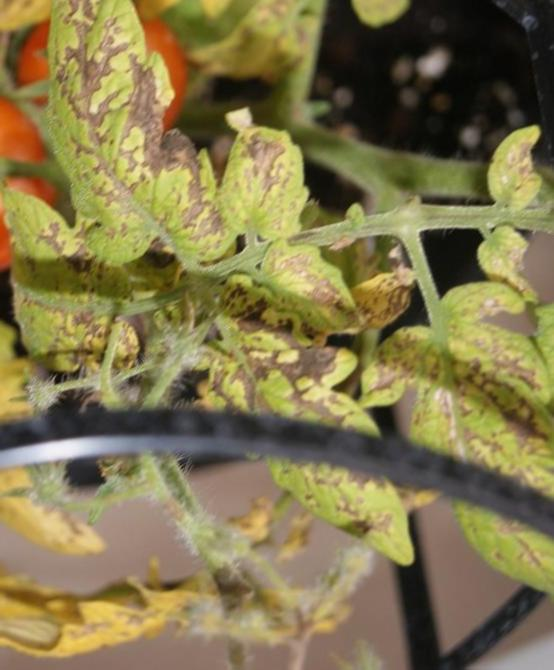Tomato leaf bacterial spot: (370, 262, 554, 596), (211, 314, 435, 582), (39, 9, 242, 289), (2, 188, 131, 382), (222, 109, 313, 250)
